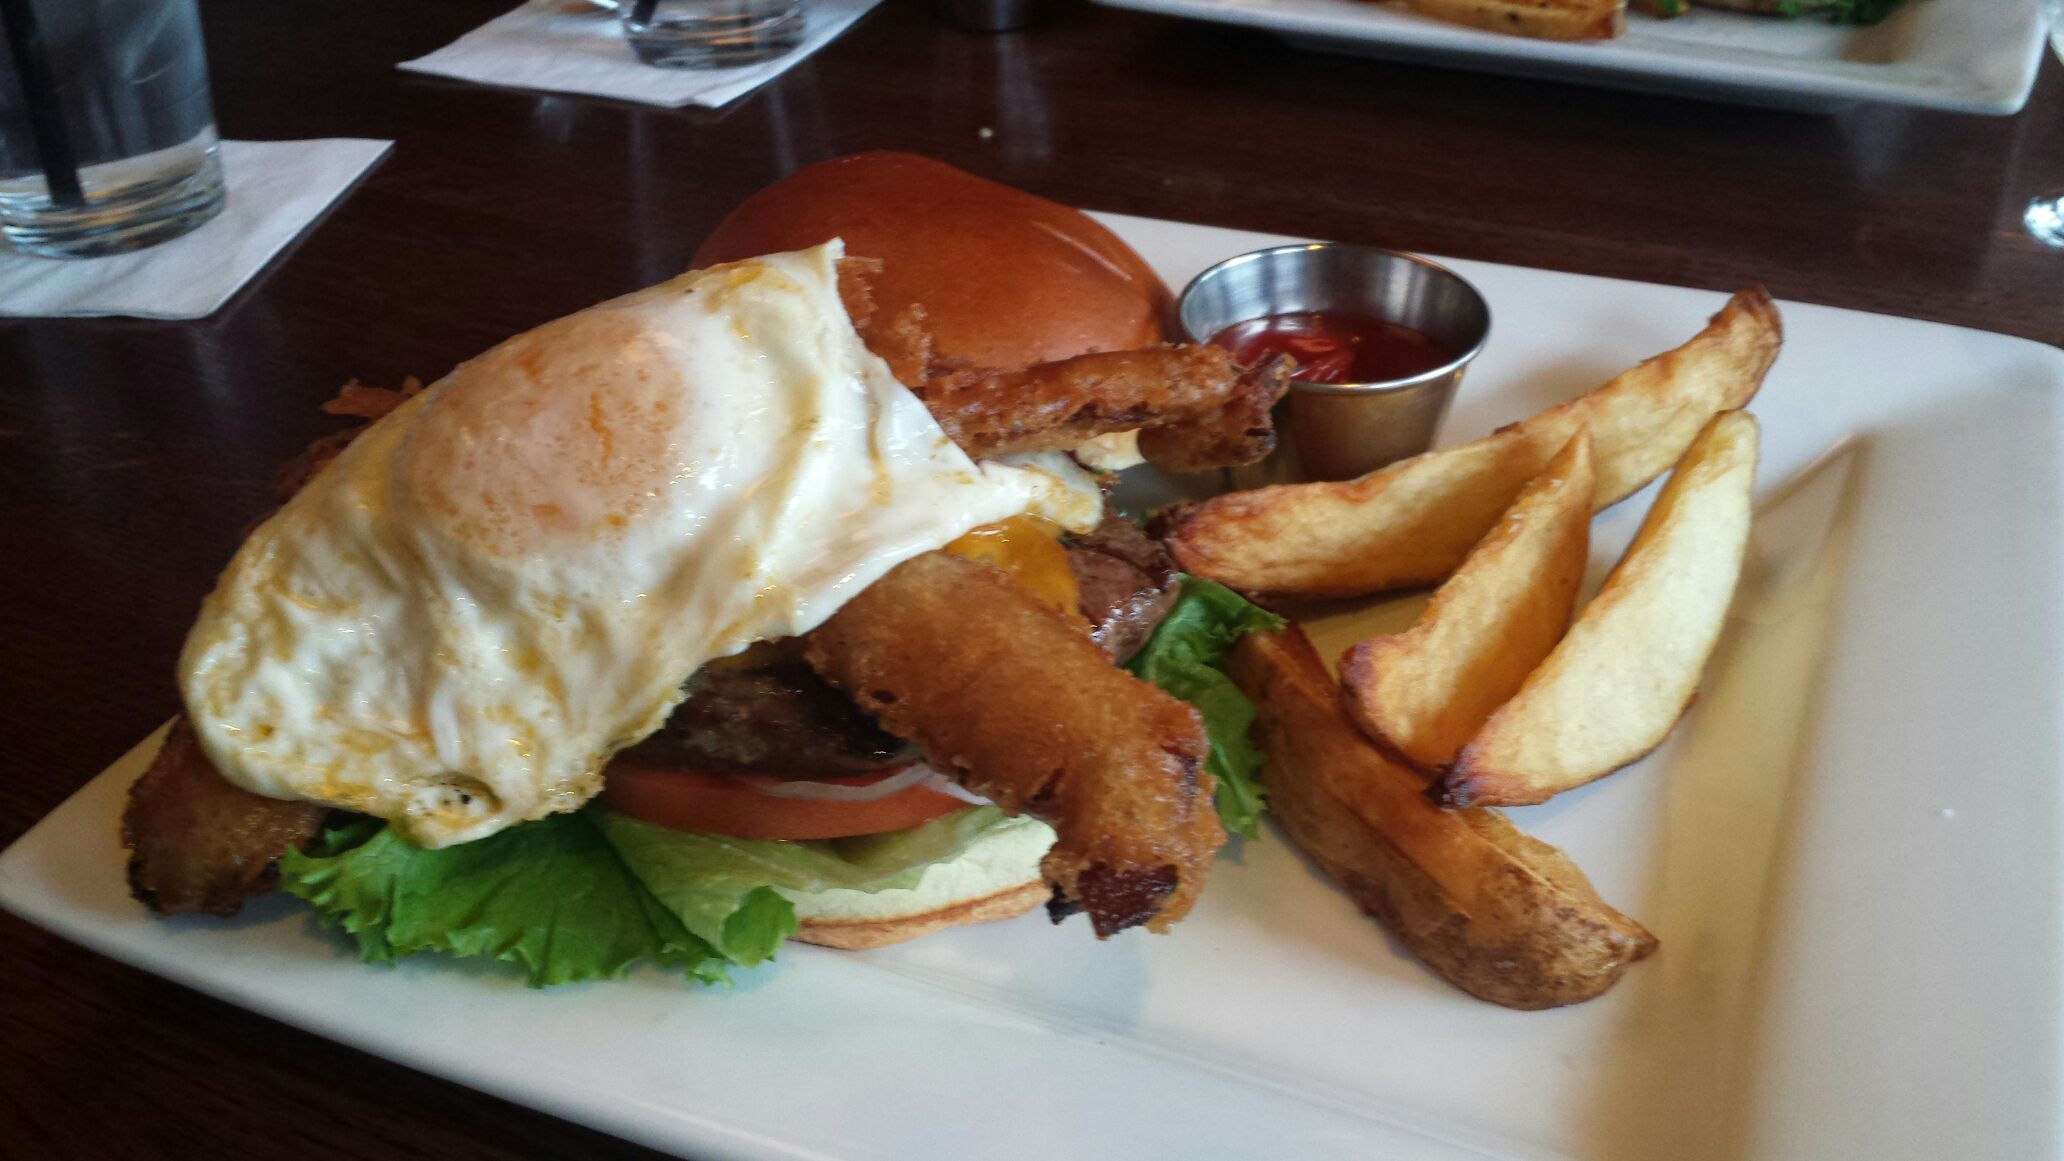fried egg: (196, 417, 953, 748)
